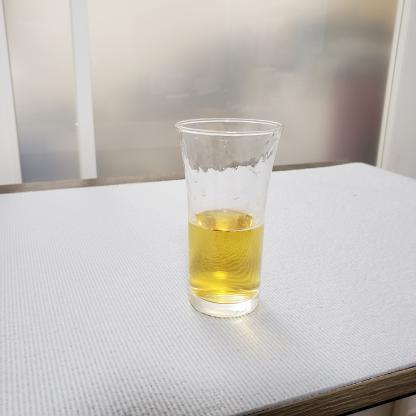glass: (167, 107, 302, 329)
